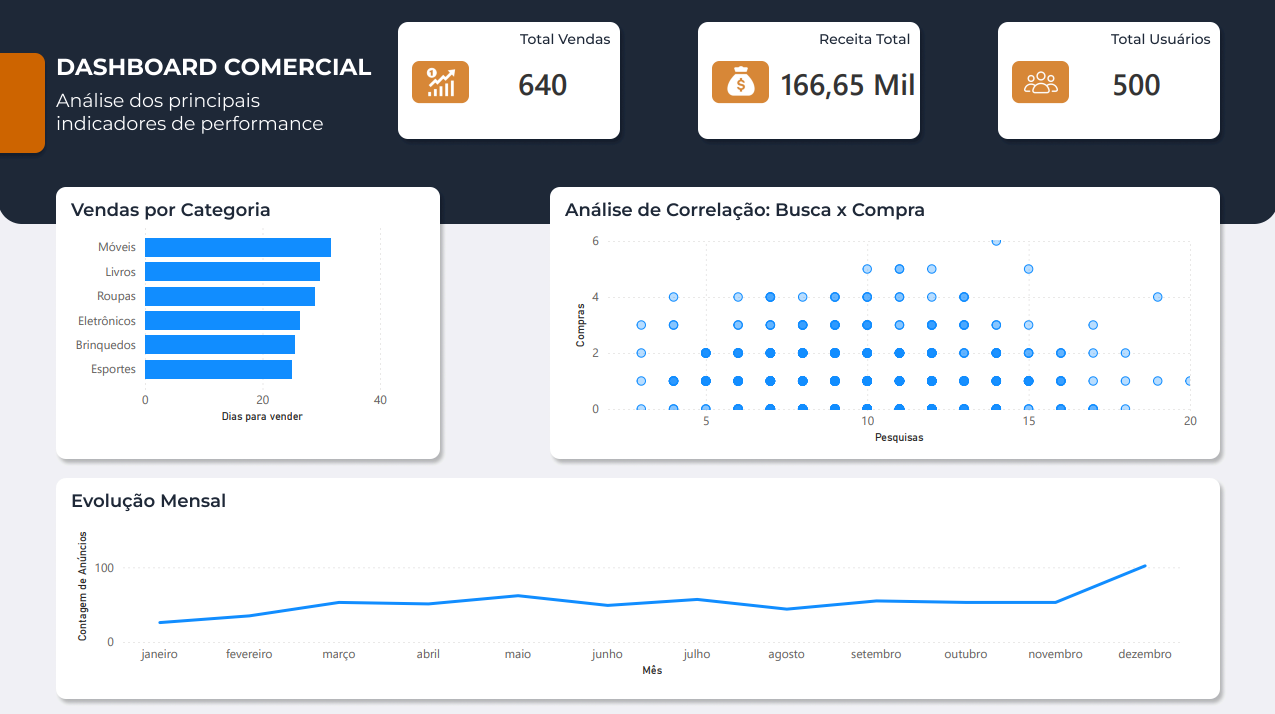

This screenshot's page, from the dashboard's own definition file:
{"tool":"powerbi","page":{"name":"Análise","canvas":[1280,720],"ordinal":1},"visuals":[{"type":"clusteredBarChart","title":"Tempo Médio de Venda por Categoria (Dias)","fields":{"Category":["vw_ad_performance.category"],"Y":["Avg(vw_ad_performance.days_to_sell)"]},"box":[66.7,216.7,327.8,212.2],"z":0},{"type":"scatterChart","title":"Correlação: Volume de Pesquisas vs. Compras Realizadas","fields":{"X":["Sum(vw_search_conversion.num_searches)"],"Y":["Sum(vw_search_conversion.num_purchases)"],"Category":["vw_search_conversion.user_id"]},"box":[572.2,228.9,632.2,221.1],"z":1000},{"type":"lineChart","title":"Evolução do Volume de Anúncios (Mensal)","fields":{"Category":["vw_ad_performance.sold_date.Variation.Hierarquia de datas.Ano","vw_ad_performance.sold_date.Variation.Hierarquia de datas.Trimestre","vw_ad_performance.sold_date.Variation.Hierarquia de datas.Mês","vw_ad_performance.sold_date.Variation.Hierarquia de datas.Dia"],"Y":["CountNonNull(vw_ad_performance.ad_id)"]},"box":[74.4,517.8,1113.3,165.6],"z":2000},{"type":"cardVisual","fields":{"Data":["vw_ad_performance.Total Vendas"]},"box":[491,22,179,123],"z":3000},{"type":"cardVisual","fields":{"Data":["vw_ad_performance.Receita Total"]},"box":[754,10,230,147],"z":4000},{"type":"cardVisual","fields":{"Data":["vw_ad_performance.Total Usuários"]},"box":[1085,20,139,127],"z":4001}]}

Visuals, with their boxes in screenshot pixels (x1, y1, x2, y2), scaled from the page's 1280x720 canvas onto the 1275x714 screenshot:
"Tempo Médio de Venda por Categoria (Dias)" clusteredBarChart: (66, 215, 393, 425)
"Correlação: Volume de Pesquisas vs. Compras Realizadas" scatterChart: (570, 227, 1200, 446)
"Evolução do Volume de Anúncios (Mensal)" lineChart: (74, 513, 1183, 678)
cardVisual - vw_ad_performance.Total Vendas: (489, 22, 667, 144)
cardVisual - vw_ad_performance.Receita Total: (751, 10, 980, 156)
cardVisual - vw_ad_performance.Total Usuários: (1081, 20, 1219, 146)
